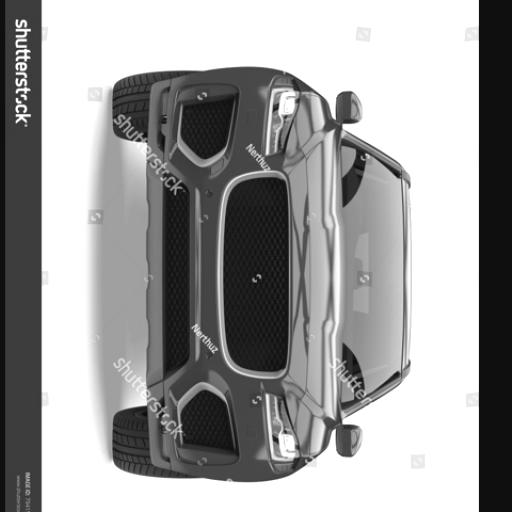car: (119, 358, 128, 367)
suv: (113, 68, 409, 480)
